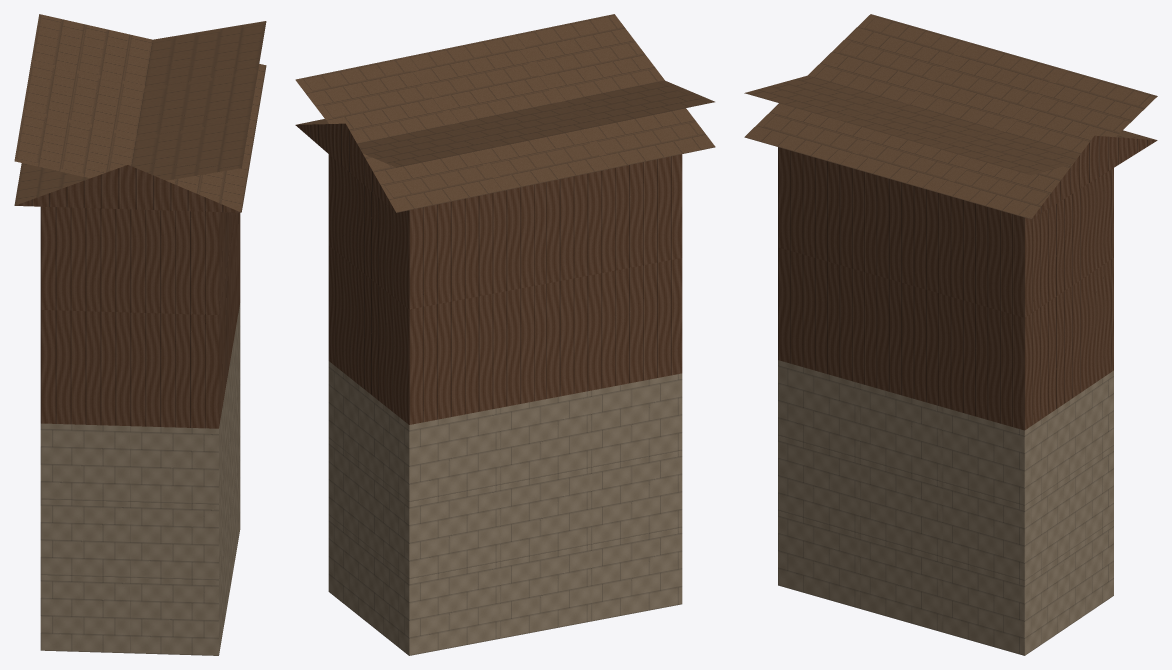
File: bld_c-7_23_599.gltf
3 views of the same model, side by side, from view 1: azimuth 30°, elevation 25°; view 2: azimuth 150°, elevation 25°; view 3: azimuth 270°, elevation 25° (orthographic). The views are drawn at different scales.
Parts seen in each view (by area): view 1: bld_c-7_23_599; view 2: bld_c-7_23_599; view 3: bld_c-7_23_599.
Part boxes in pixels (x1,y1,x2,y2): bld_c-7_23_599: (14,14,266,655); bld_c-7_23_599: (295,14,715,655); bld_c-7_23_599: (744,14,1157,655).
Bounding box in the file's own units: 7.82 × 11.2 × 8.49.
4 materials, 4 textured.
